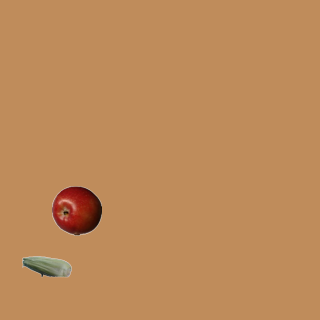Apple Braeburn: (51, 185, 101, 235)
Corn Husk: (21, 241, 71, 291)
